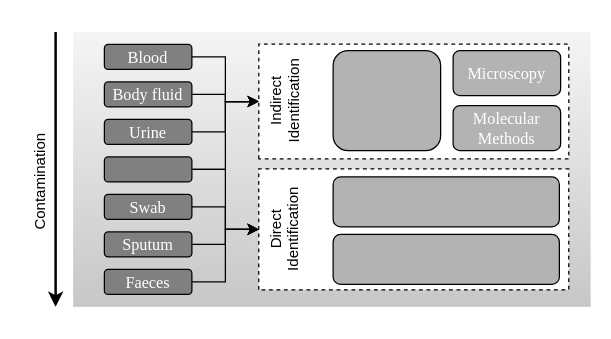
Some shapes in this 611 by 339 pixel diagram are drawn without their labels. Here are the shapes that lost their labels. From the top down, the centre of each, then its label:
At (386,100): "Propagation in host cell line".
At (147,169): "Pus".
At (445,201): "nucleic acid detection".
At (445,258): "immunological methods".
